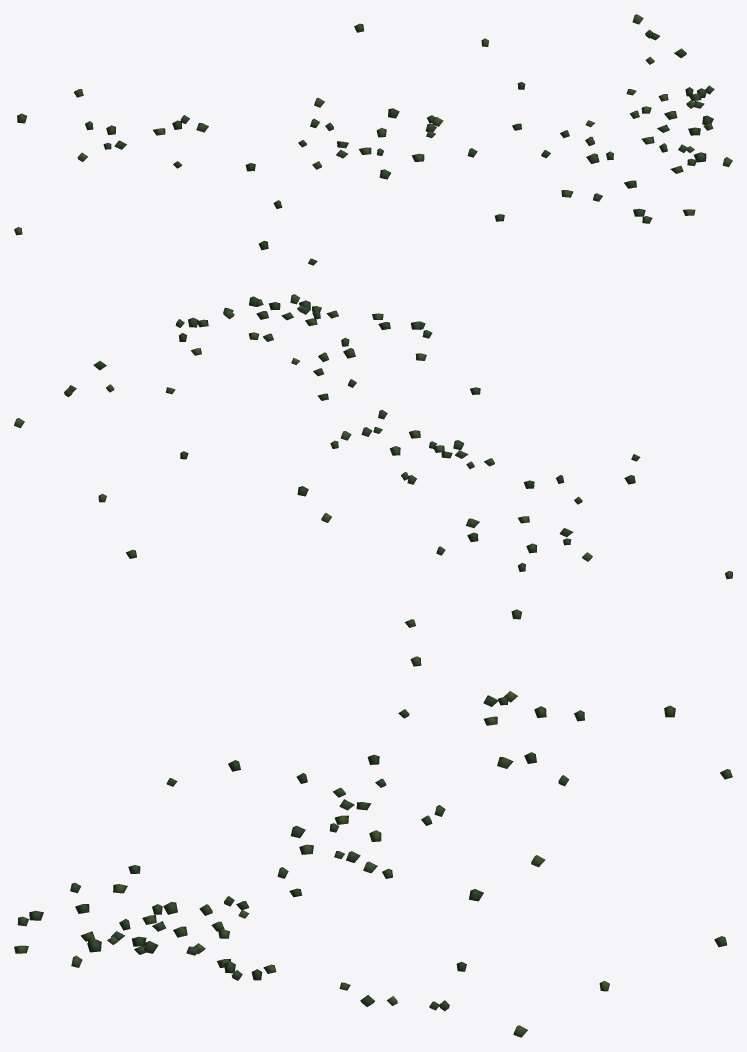
The model's file is SM_Fondale_Colle_Alberi_01_LOD2.fbx.
The picture shows the model from 3 angles, top to bottom: view 1: azimuth 30°, elevation 25°; view 2: azimuth 150°, elevation 25°; view 3: azimuth 270°, elevation 25°; orthographic projection. The views are drawn at different scales.
Parts seen in each view (by area): view 1: SM_Fondale_Colle_Alberi_01_LOD2; view 2: SM_Fondale_Colle_Alberi_01_LOD2; view 3: SM_Fondale_Colle_Alberi_01_LOD2.
Boxes of the visible parts, x1,y1,x2,y2 form: SM_Fondale_Colle_Alberi_01_LOD2: (14,14,732,265); SM_Fondale_Colle_Alberi_01_LOD2: (14,294,732,627); SM_Fondale_Colle_Alberi_01_LOD2: (14,656,732,1037).
Bounding box in the file's own units: 109334 × 83321 × 9626.
